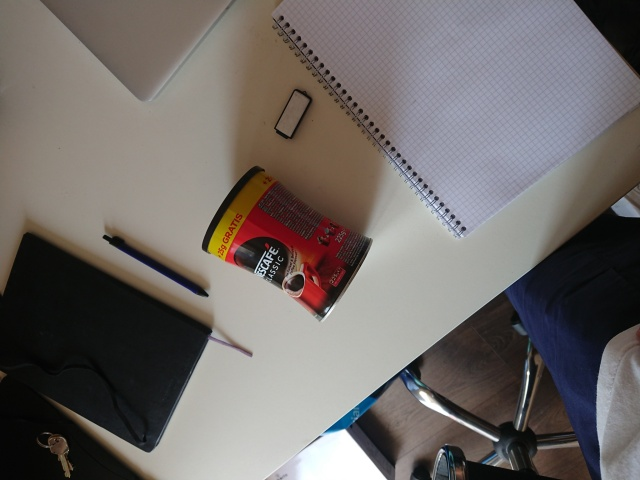Nescafe Classic 225g: (198, 162, 376, 326)
